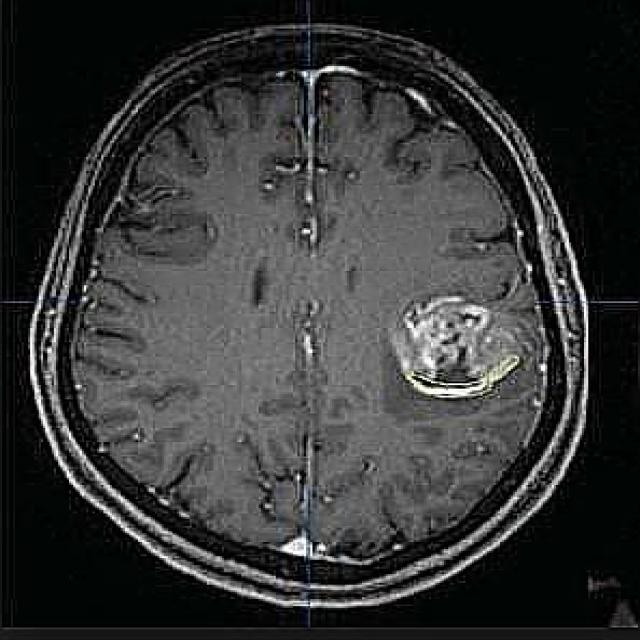Tumor-Cell: (379, 266, 519, 412)
